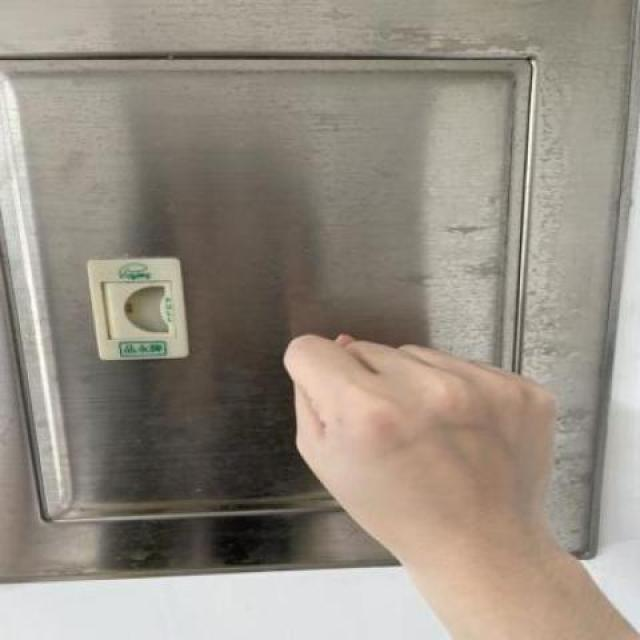Closed Hand: (266, 322, 566, 554)
